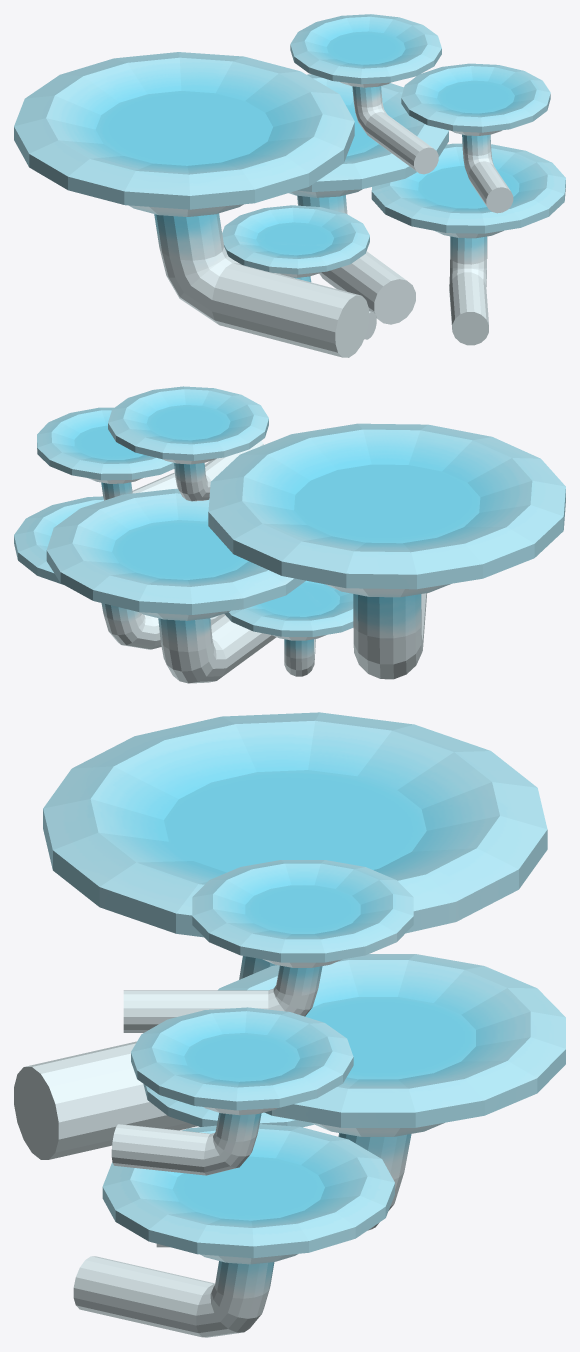
The model's file is oyster shrooms blue 1.fbx.
3 renders of one model, top to bottom at view 1: azimuth 30°, elevation 25°; view 2: azimuth 150°, elevation 25°; view 3: azimuth 270°, elevation 25°, orthographic. The views are drawn at different scales.
Visible parts, largest first — view 1: Cylinder; view 2: Cylinder; view 3: Cylinder.
Boxes of the visible parts, x1,y1,x2,y2 form: Cylinder: [14, 14, 565, 357]; Cylinder: [14, 386, 565, 683]; Cylinder: [14, 712, 565, 1337].
Bounding box in the file's own units: 561 × 276 × 360.
1 material, 1 textured.
